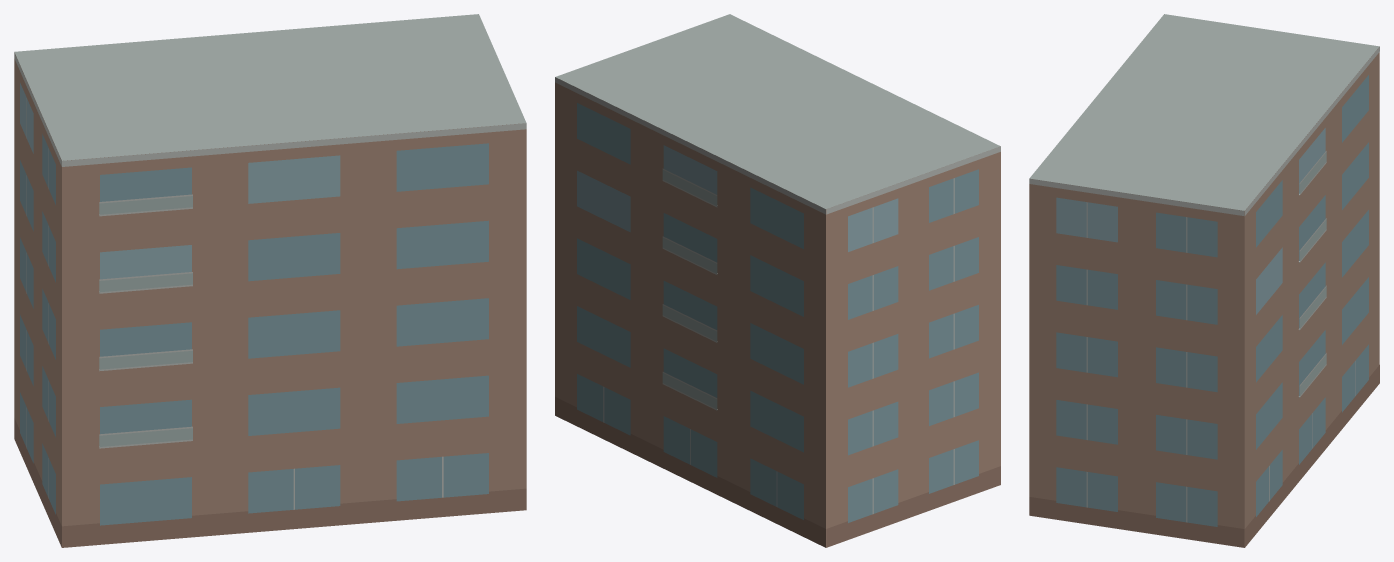
File: survey-upis-32700800.glb
3 renders of one model, left to right at view 1: azimuth 30°, elevation 25°; view 2: azimuth 150°, elevation 25°; view 3: azimuth 270°, elevation 25°, orthographic. The views are drawn at different scales.
Visible parts, largest first — view 1: survey-upis-32700800.tmp; view 2: survey-upis-32700800.tmp; view 3: survey-upis-32700800.tmp.
Boxes of the visible parts, <box> form: survey-upis-32700800.tmp: <box>14,14,526,547</box>; survey-upis-32700800.tmp: <box>555,14,1000,547</box>; survey-upis-32700800.tmp: <box>1029,14,1379,547</box>.
Size of the model in its own units: 19.11 by 15.25 by 14.38.
